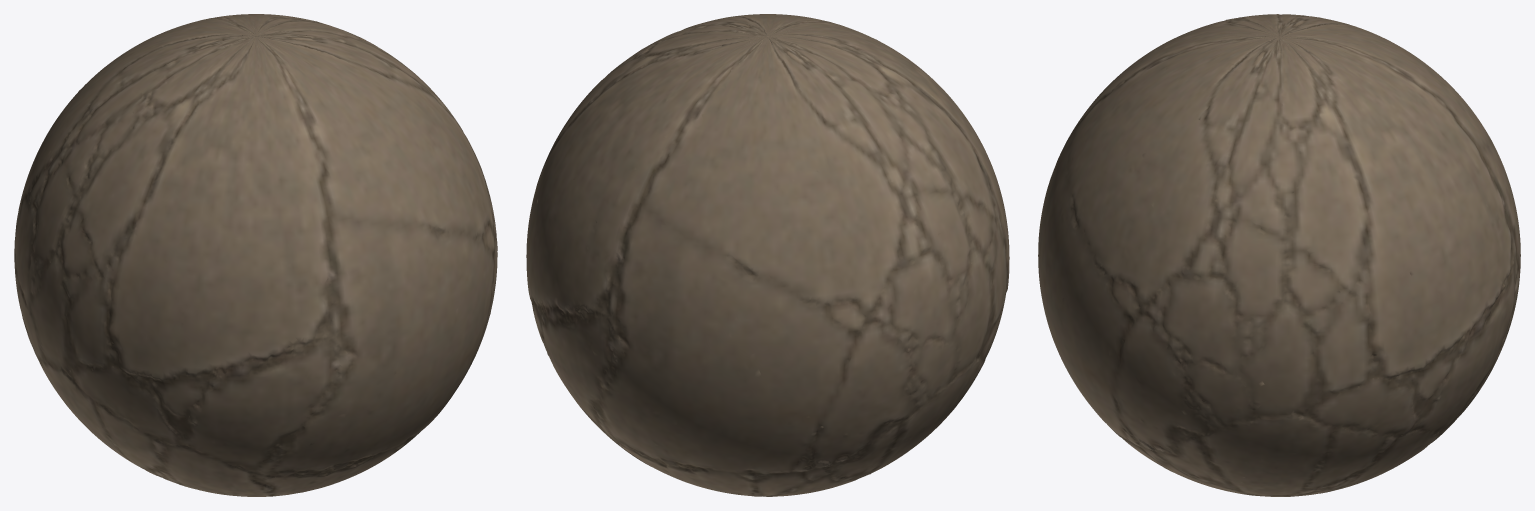
Rendered from cracked_concrete_2k.gltf.
3 views of the same model, side by side, from view 1: azimuth 30°, elevation 25°; view 2: azimuth 150°, elevation 25°; view 3: azimuth 270°, elevation 25° (orthographic).
Parts seen in each view (by area): view 1: sphere_gltf; view 2: sphere_gltf; view 3: sphere_gltf.
Part boxes in pixels (bbox=[...]): sphere_gltf: bbox=[14, 14, 497, 496]; sphere_gltf: bbox=[526, 14, 1009, 496]; sphere_gltf: bbox=[1038, 14, 1520, 496].
Bounding box in the file's own units: 2 × 2 × 2.
Materials: 1 (1 with a texture image).
